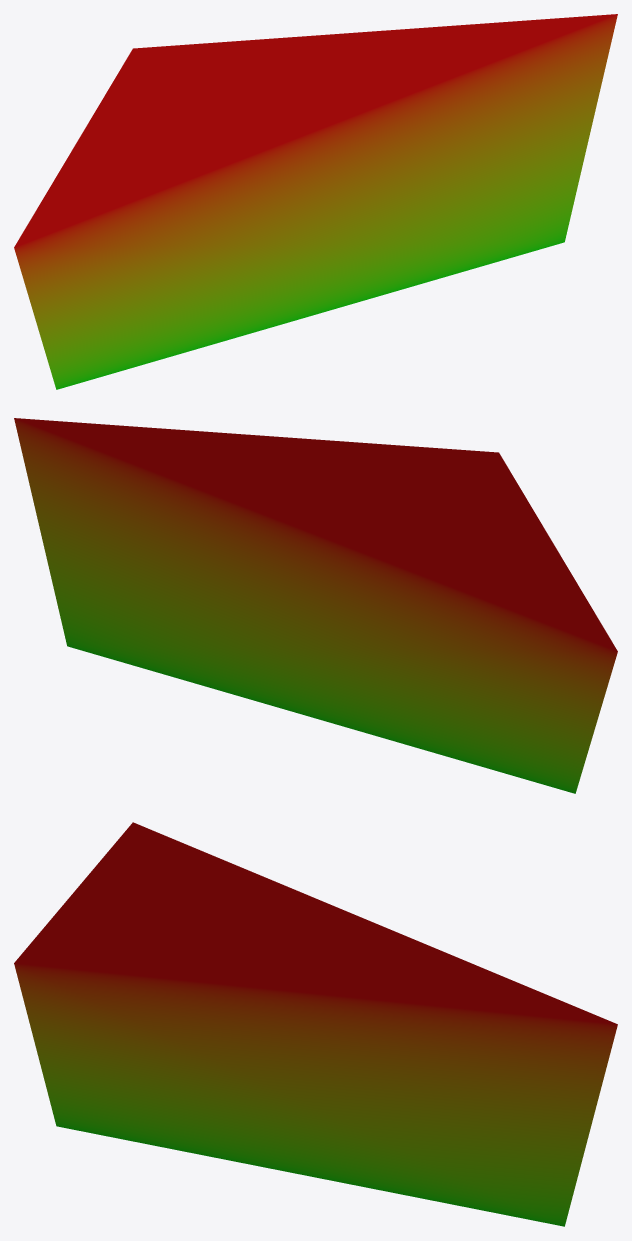
Rendered from Silver Lady Fern_LOD5_Var1_ubolejkia.fbx.
3 renders of one model, top to bottom at view 1: azimuth 30°, elevation 25°; view 2: azimuth 150°, elevation 25°; view 3: azimuth 330°, elevation 25°, orthographic.
Visible parts, largest first — view 1: _1a7e_Var1_LOD5; view 2: _1a7e_Var1_LOD5; view 3: _1a7e_Var1_LOD5.
Part boxes in pixels (box(x1,y1,x2,y2)): _1a7e_Var1_LOD5: box(14, 14, 617, 389); _1a7e_Var1_LOD5: box(14, 418, 617, 793); _1a7e_Var1_LOD5: box(14, 822, 617, 1226).
Size of the model in its own units: 188 by 96.18 by 1.57e-05.
